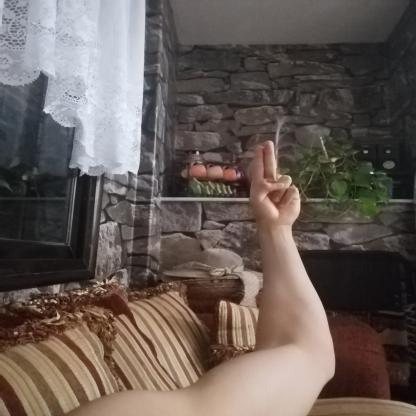TA: (233, 133, 311, 235)
